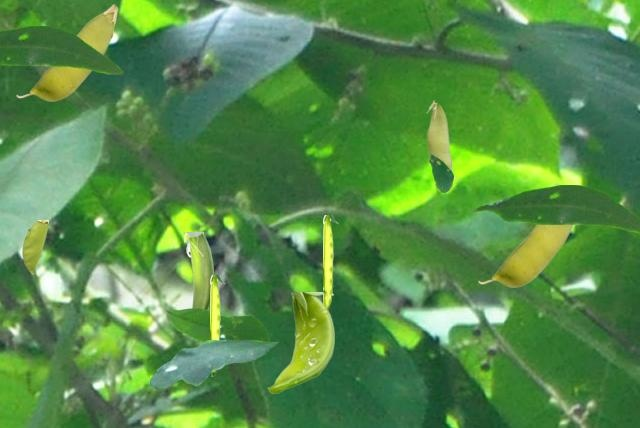pea: (16, 4, 117, 100), (267, 292, 333, 392), (478, 225, 573, 286), (426, 100, 460, 179), (184, 232, 214, 308), (210, 275, 224, 375), (323, 215, 337, 310), (22, 220, 47, 273)
